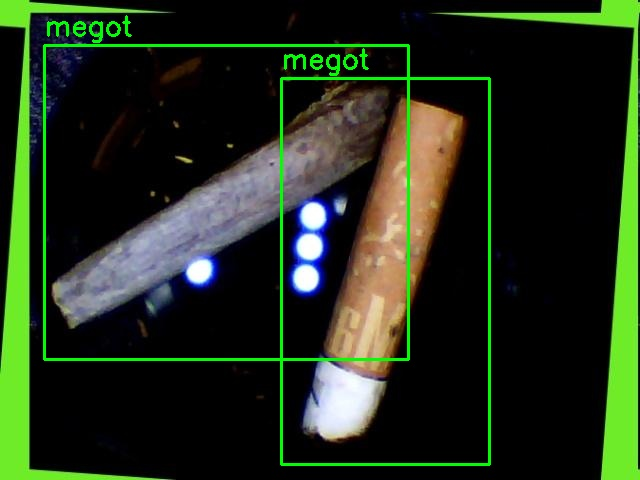megot: (44, 45, 408, 359), (281, 78, 489, 464)
